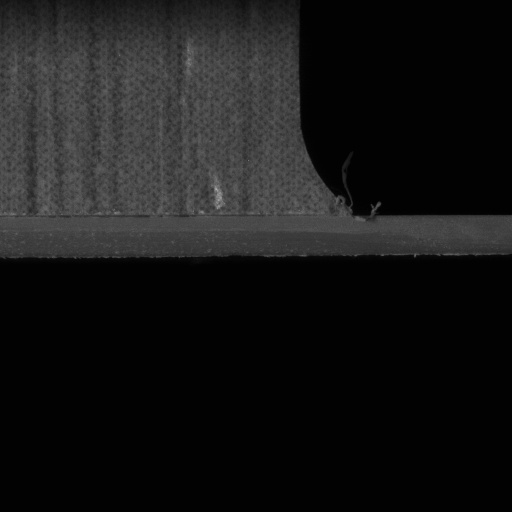changdai: (344, 213, 511, 259)
